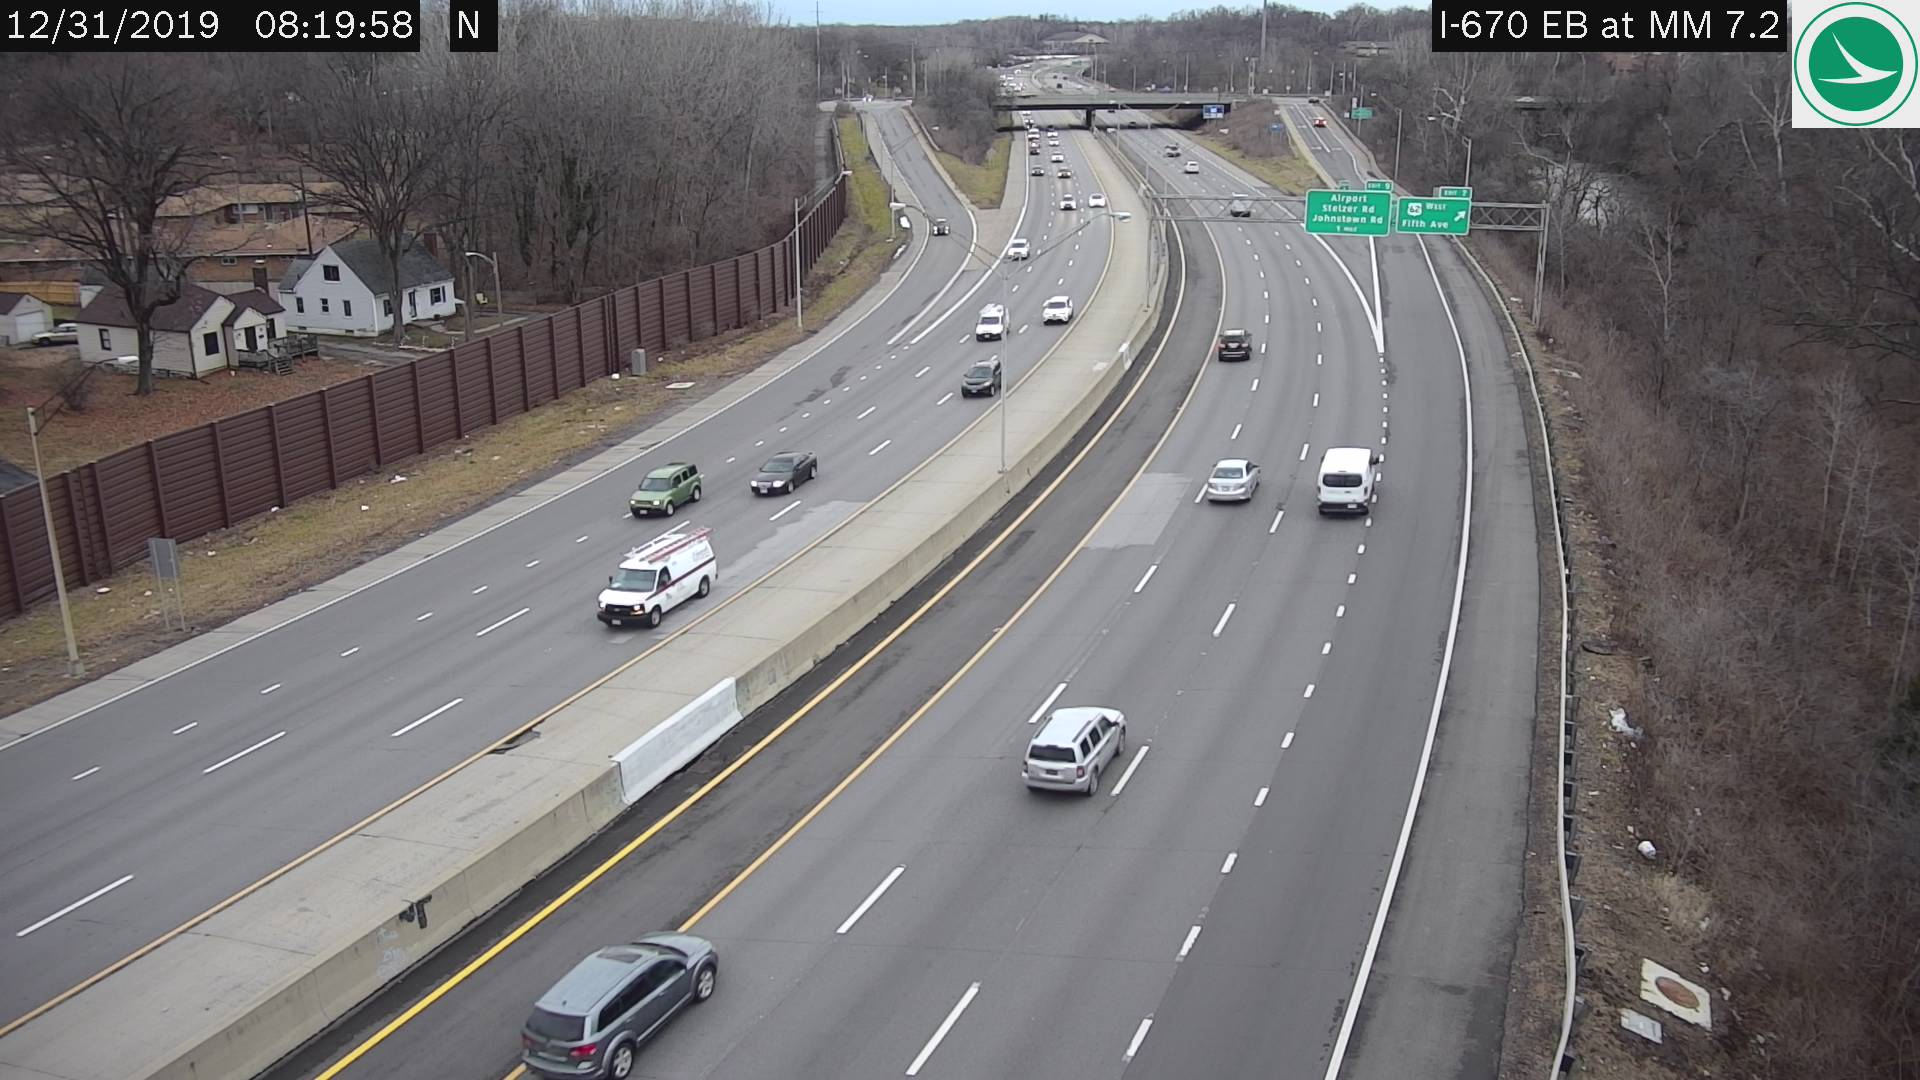car: (522, 936, 713, 1072), (597, 531, 713, 628), (1022, 704, 1126, 796), (1317, 448, 1374, 516), (634, 464, 702, 516), (750, 452, 818, 500), (1207, 456, 1258, 500), (963, 356, 1002, 400), (978, 301, 1010, 336), (1218, 328, 1246, 360), (1042, 291, 1069, 320), (1007, 237, 1029, 260), (934, 218, 948, 235)
